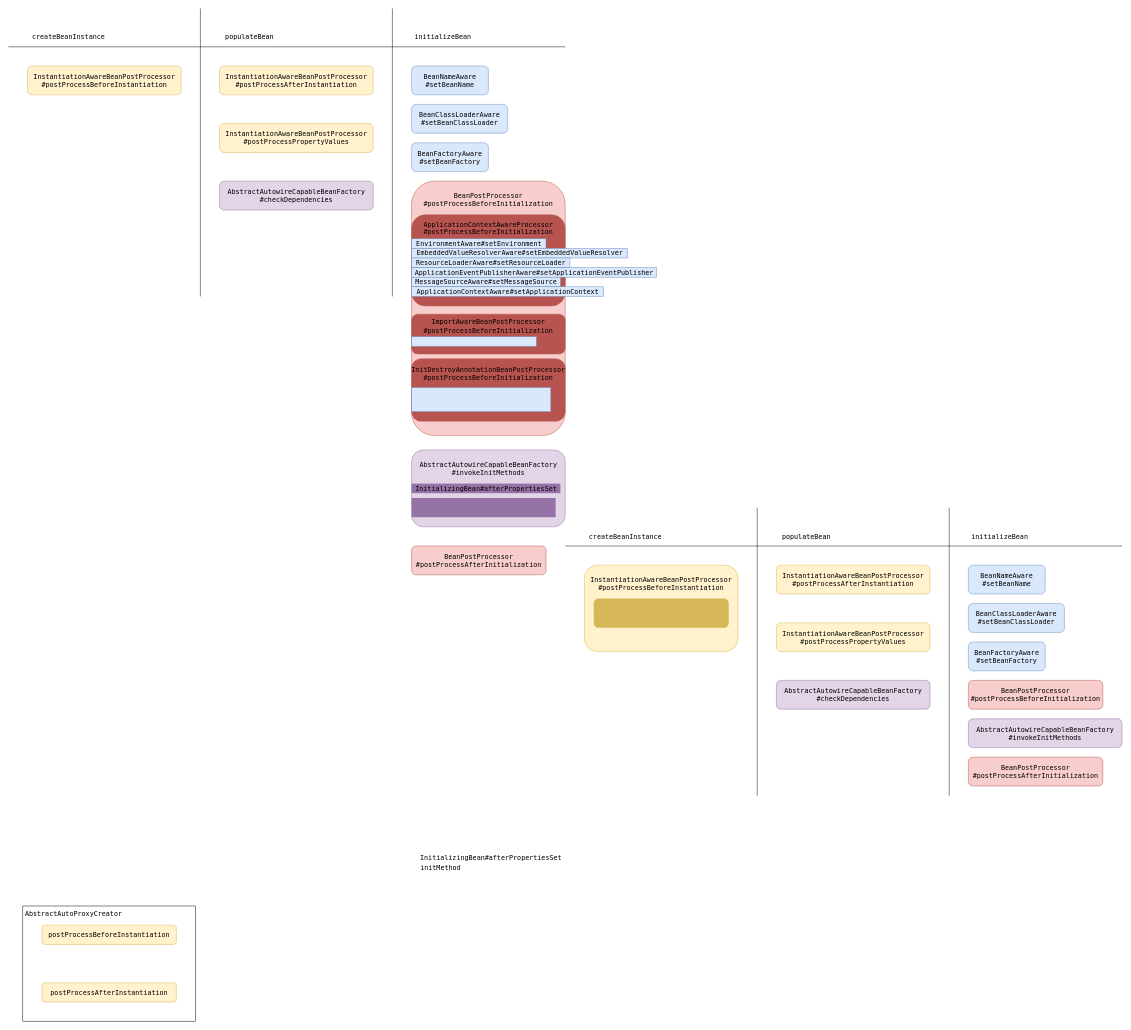
This 1131x1030 diagram has some shape labels left out. The centre of each missing label's shape, as x and y in pixels:
AbstractAutoProxyCreator #postProcessBeforeInstantiation: (661,613)
AbstractAutowireCapableBeanFactory #invokeCustomInitMethod: (483,507)
ImportAware#setImportMetadata: (473,341)
InitDestroyAnnotationBeanPostProcessor .LifecycleMetadata #invokeInitMethods: (481,399)
